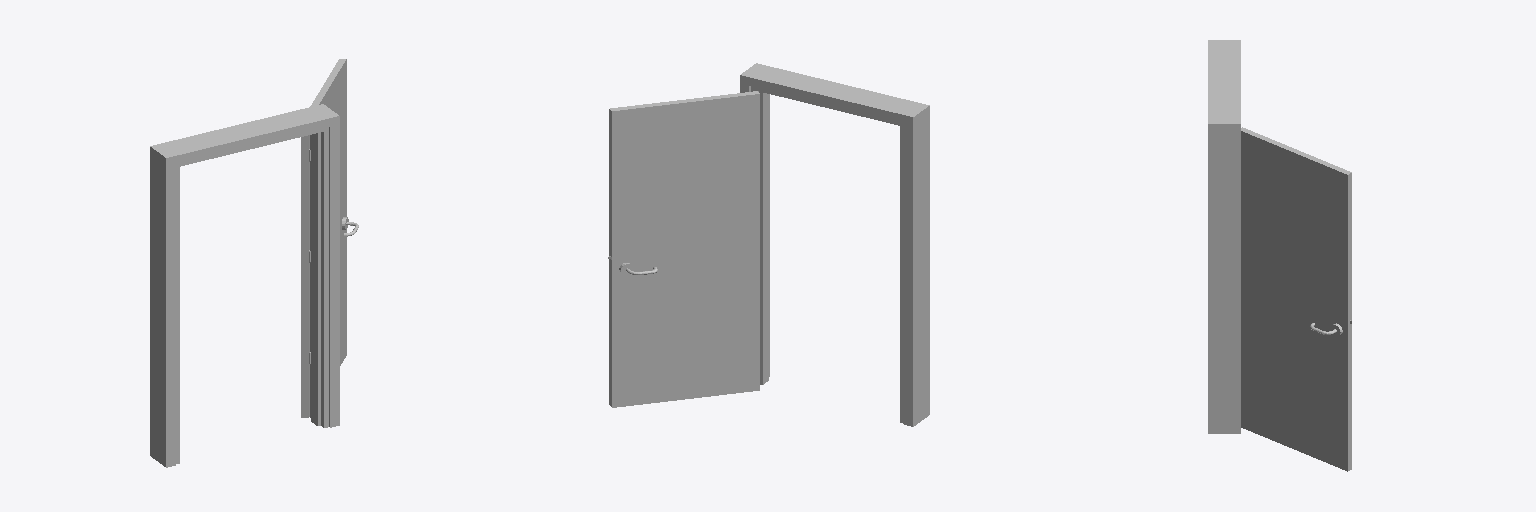
File: door.obj
3 views of the same model, side by side, from view 1: azimuth 30°, elevation 25°; view 2: azimuth 150°, elevation 25°; view 3: azimuth 270°, elevation 25° (orthographic).
Parts seen in each view (by area): view 1: door_Hinge_low_Cylinder.002; view 2: door_Hinge_low_Cylinder.002; view 3: door_Hinge_low_Cylinder.002.
Boxes of the visible parts, <box> form: door_Hinge_low_Cylinder.002: <box>150,59,358,467</box>; door_Hinge_low_Cylinder.002: <box>608,63,929,426</box>; door_Hinge_low_Cylinder.002: <box>1208,40,1351,471</box>.
Size of the model in its own units: 1.81 by 2.13 by 0.9007.